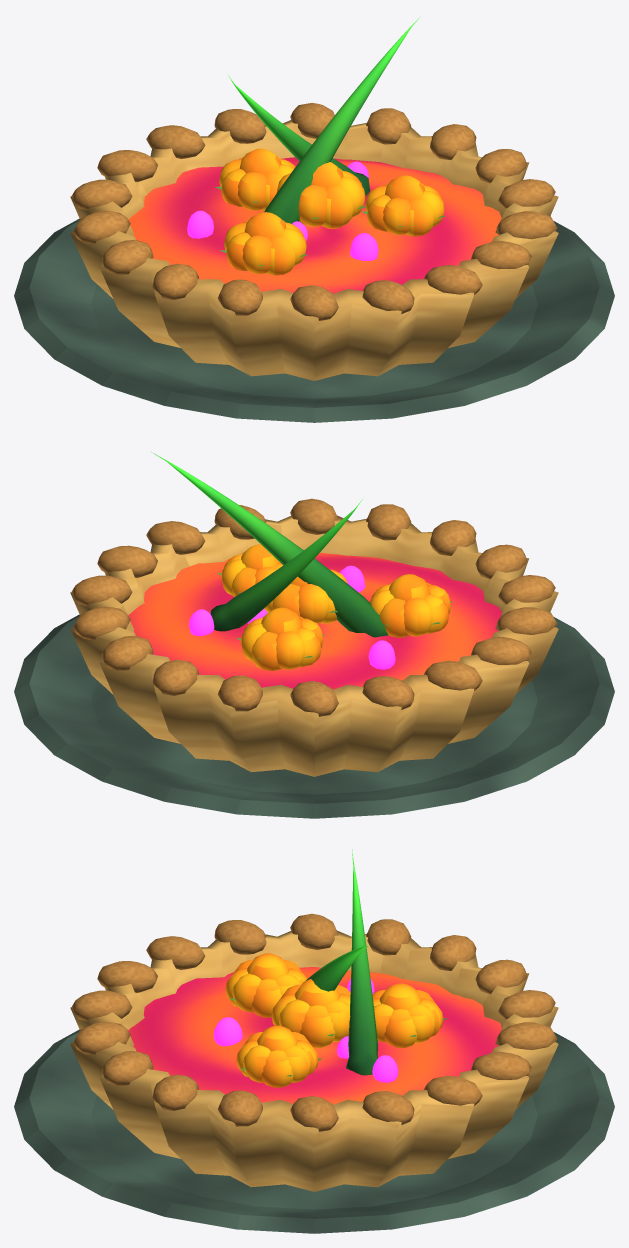
File: FoodPlainsTart.fbx
The picture shows the model from 3 angles, top to bottom: view 1: azimuth 30°, elevation 25°; view 2: azimuth 150°, elevation 25°; view 3: azimuth 270°, elevation 25°; orthographic projection.
Parts seen in each view (by area): view 1: FoodPlainsTart; view 2: FoodPlainsTart; view 3: FoodPlainsTart.
Part boxes in pixels (x1=…): FoodPlainsTart: x1=14, y1=17, x2=614, y2=422; FoodPlainsTart: x1=14, y1=452, x2=614, y2=818; FoodPlainsTart: x1=14, y1=849, x2=614, y2=1233.
Bounding box in the file's own units: 39 × 17.72 × 39.
Materials: 1 (1 with a texture image).
